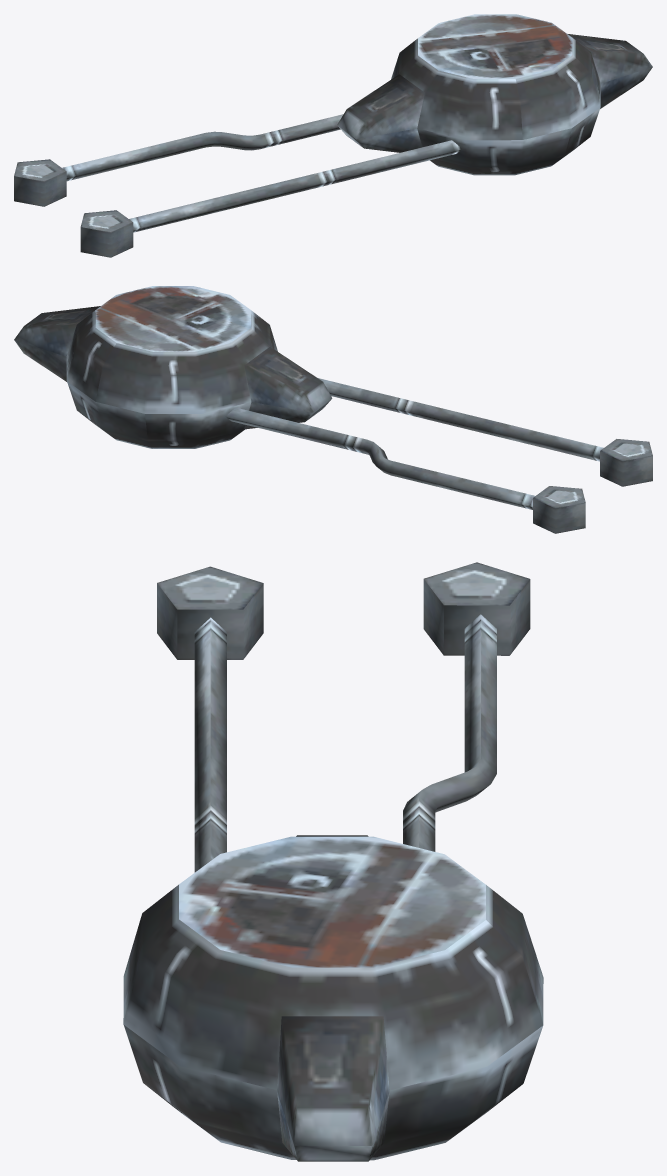
Rendered from hth_item_junk_06.glb.
The picture shows the model from 3 angles, top to bottom: view 1: azimuth 30°, elevation 25°; view 2: azimuth 150°, elevation 25°; view 3: azimuth 270°, elevation 25°; orthographic projection. The views are drawn at different scales.
Parts seen in each view (by area): view 1: hth_item_junk_06; view 2: hth_item_junk_06; view 3: hth_item_junk_06.
Boxes of the visible parts, <box> form: hth_item_junk_06: <box>14,14,652,257</box>; hth_item_junk_06: <box>14,286,652,533</box>; hth_item_junk_06: <box>123,562,543,1161</box>.
Size of the model in its own units: 0.2048 by 0.0318 by 0.0628.
Materials: 1 (1 with a texture image).
